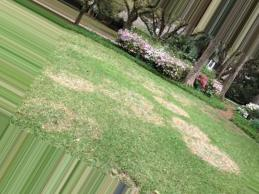patch: (62, 73, 85, 88), (190, 132, 204, 154), (208, 151, 221, 165), (164, 102, 177, 114), (62, 108, 75, 119), (178, 122, 184, 128)
